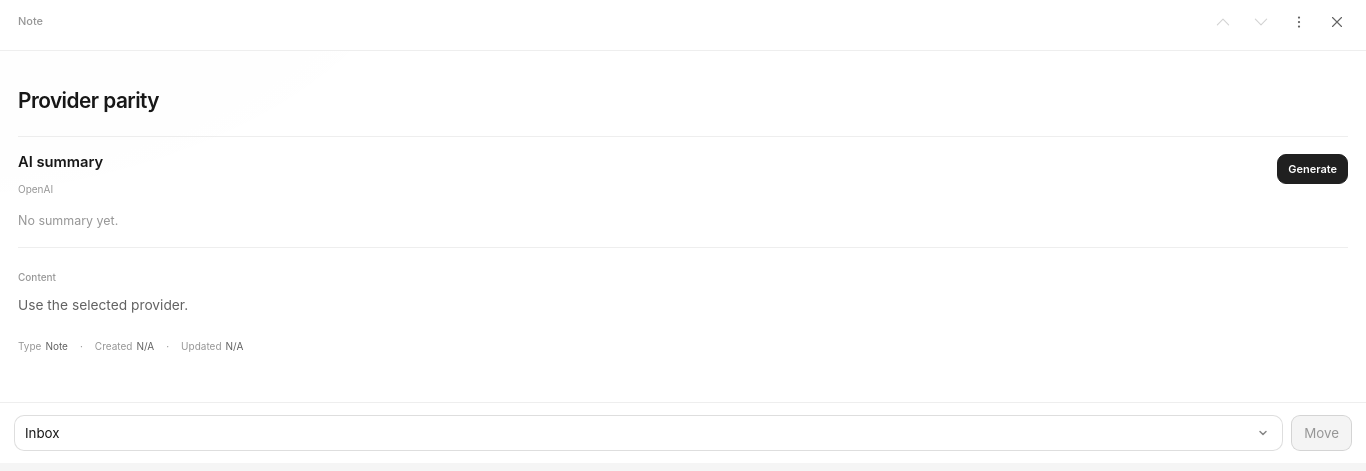
ItemPanel › routes summary generation through the active AI provider
Click the button "Generate" at (1313, 169), box [1277,154,1348,184]
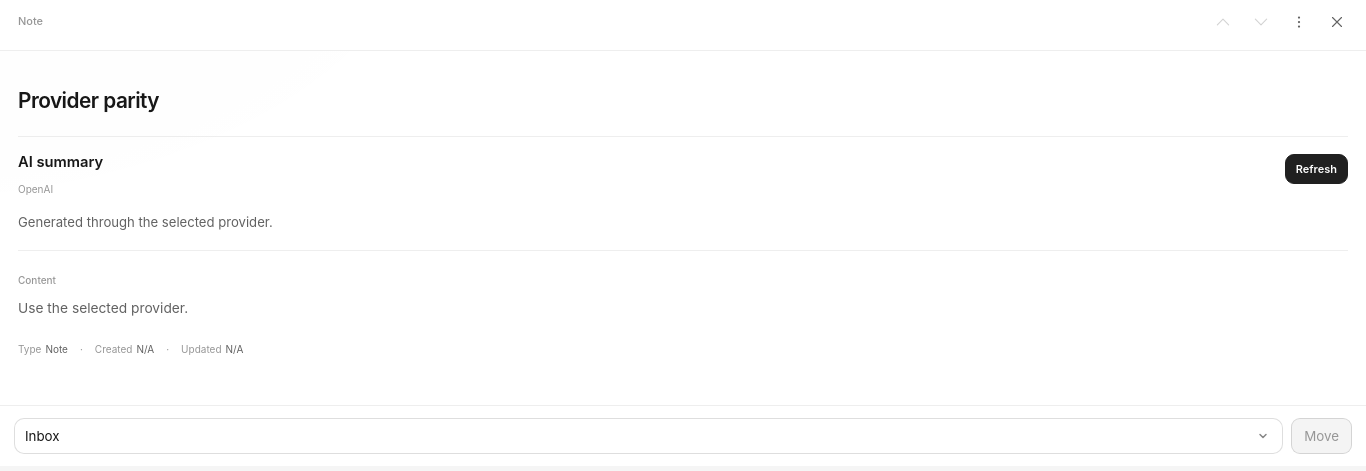
expect the text "OpenAI" is shown: met, box [18,183,53,195]
expect the text "Generated through the selected provider." is shown: met, box [18,214,273,230]
